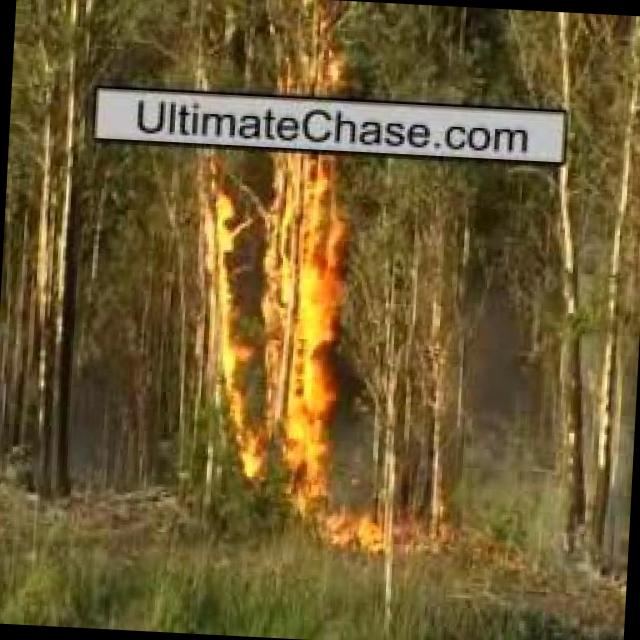Fire: (188, 150, 380, 504), (300, 494, 412, 561), (282, 13, 352, 97)
